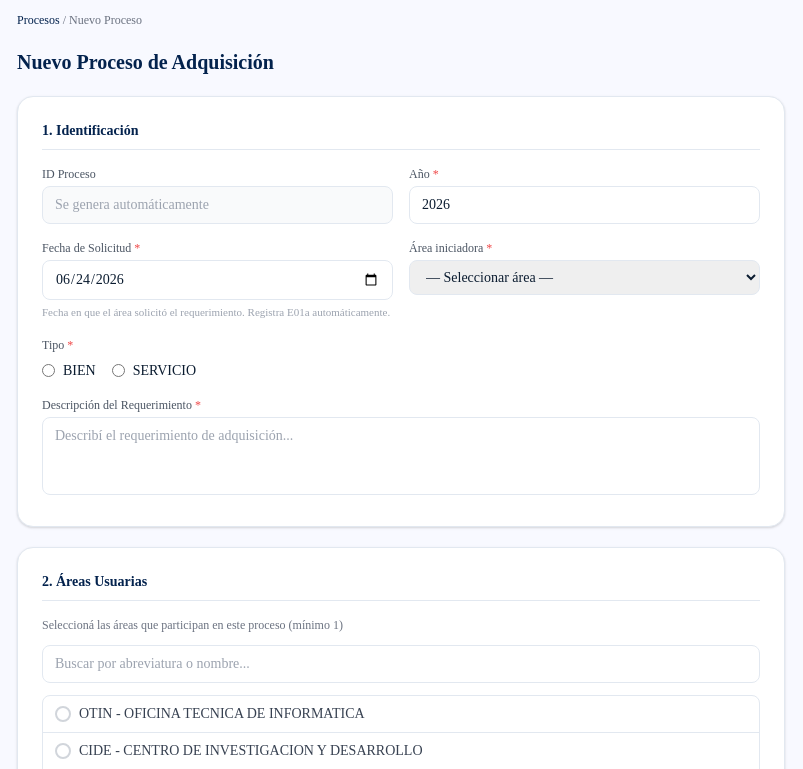
S3 — AreaSelector buscador filtra dependencias › busqueda sin resultados muestra mensaje de sin resultados
Type "XXXXXXXX" into the search field with placeholder "Buscar por abreviatura o nombre..." at (401, 664), box [42, 644, 760, 682]
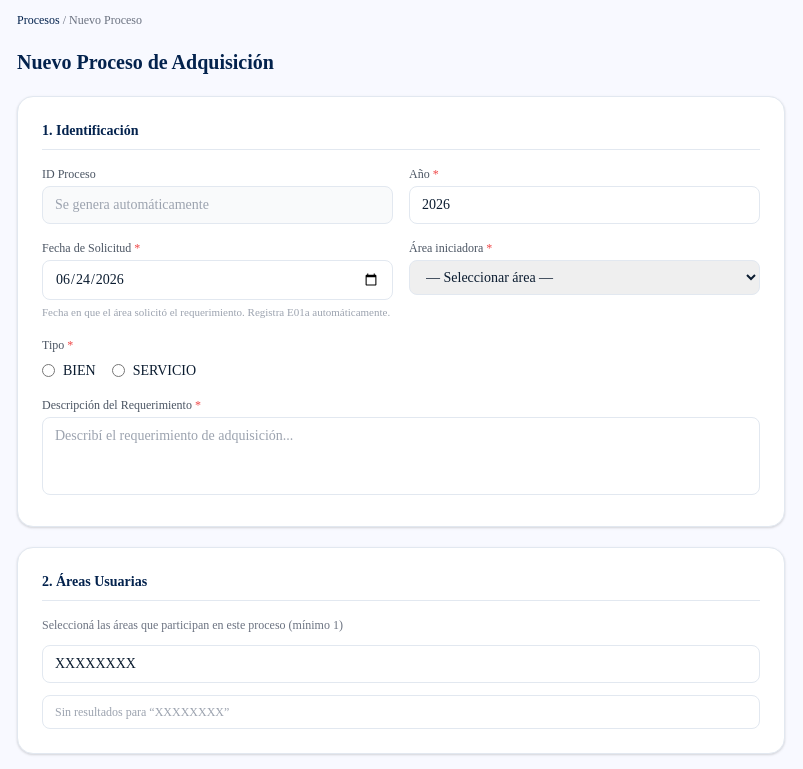
Now the text "Sin resultados para “XXXXXXXX”" is shown, box [55, 704, 229, 718]
